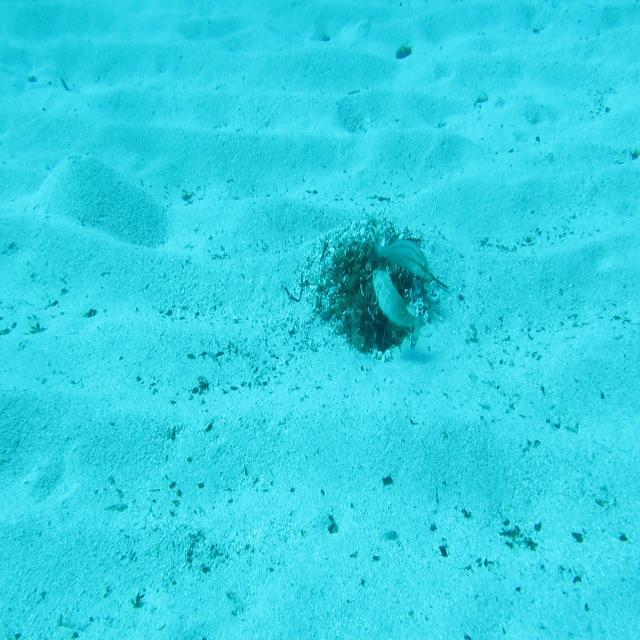DAN_CIRC: (368, 264, 428, 339)
female: (366, 228, 434, 282)
nest: (314, 222, 451, 352)
